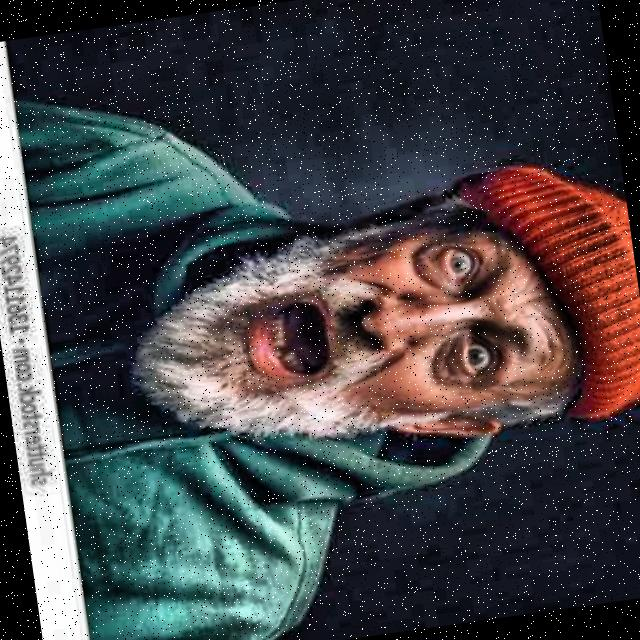fear: (95, 158, 640, 498)
